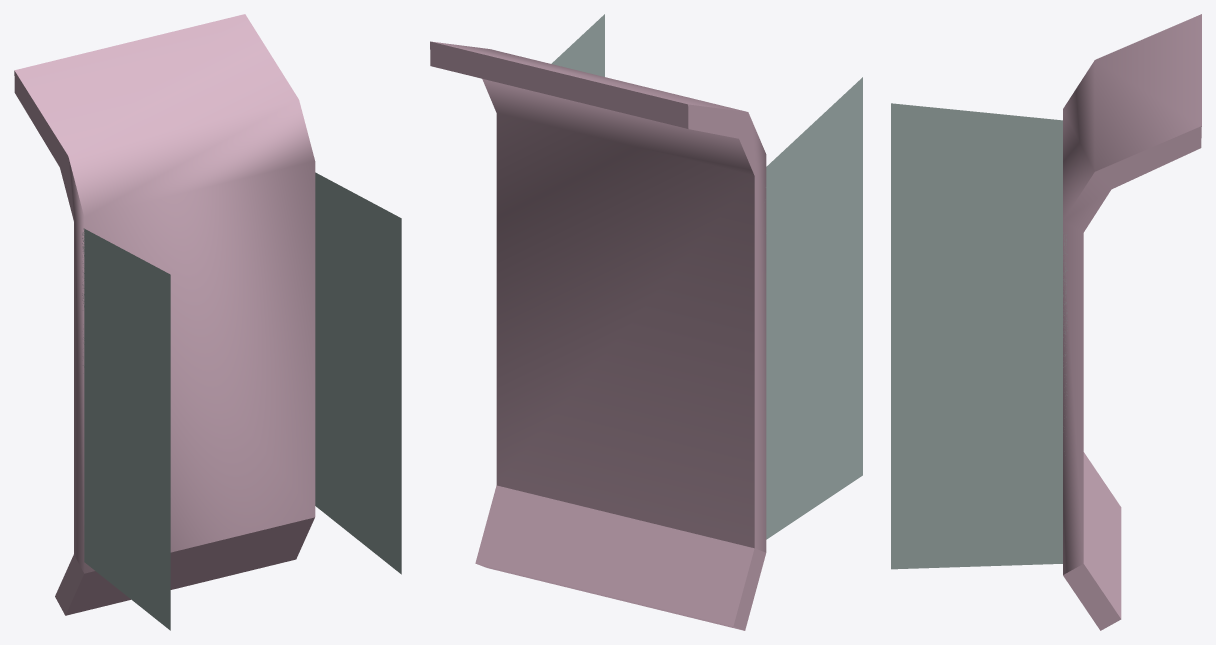
3 renders of one model, left to right at view 1: azimuth 30°, elevation 25°; view 2: azimuth 150°, elevation 25°; view 3: azimuth 270°, elevation 25°, orthographic. The views are drawn at different scales.
Visible parts, largest first — view 1: Object72; view 2: Object72; view 3: Object72.
Boxes of the visible parts, x1,y1,x2,y2 form: Object72: [14, 14, 401, 630]; Object72: [430, 14, 862, 630]; Object72: [891, 14, 1201, 630].
Size of the model in its own units: 4128 by 8686 by 4843.
